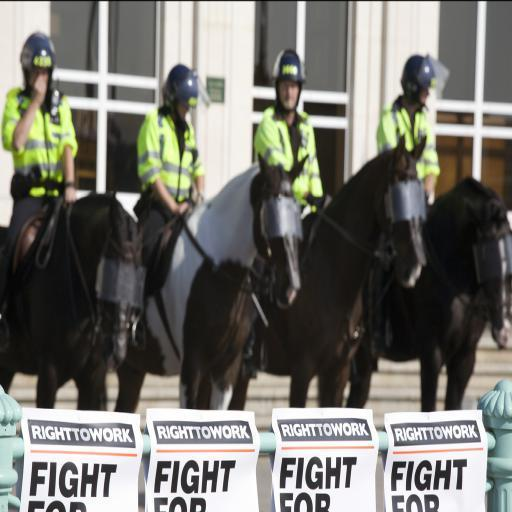horse: (196, 130, 430, 406), (100, 150, 309, 414), (344, 174, 512, 412), (0, 188, 155, 410)
